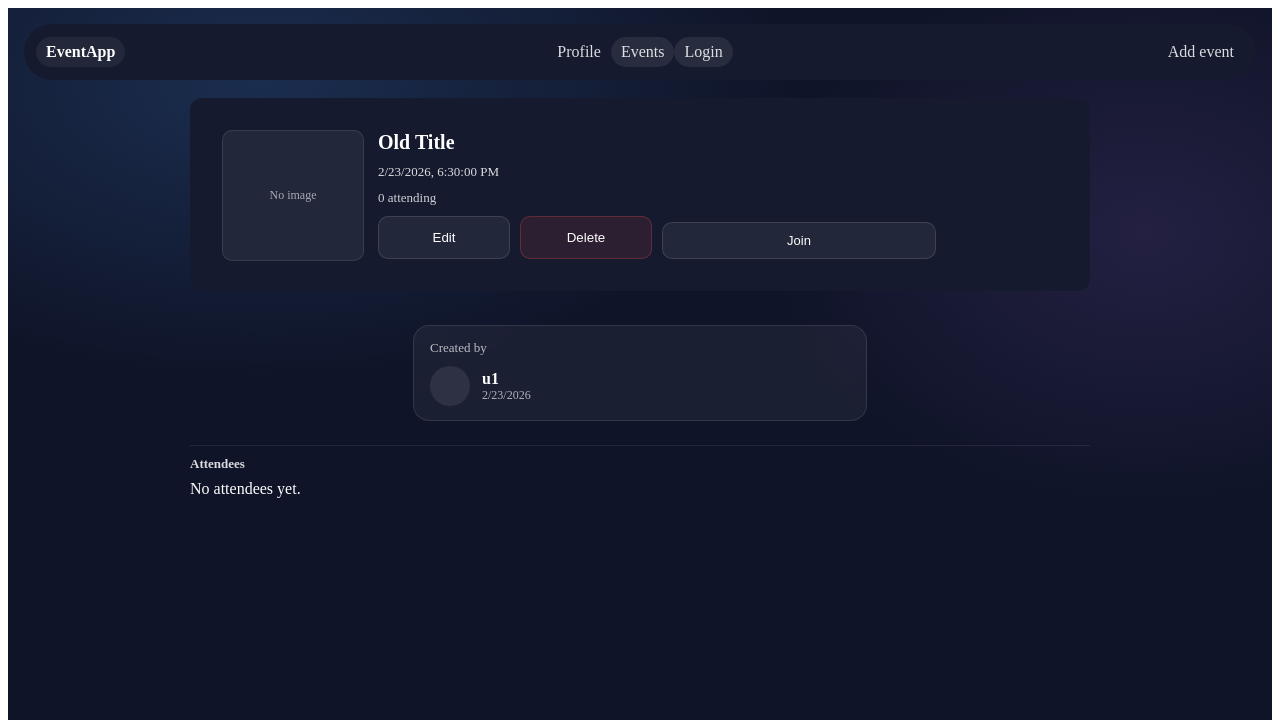
Test: EventPage › save edit: PUTs payload (no time when cleared) and then shows updated title
The width and height of the screenshot is (1280, 720).
Expected: the heading "Old Title" is shown, 378,131 -> 454,153
Click the button "Edit" at point(444, 238), box 378,216 -> 510,259
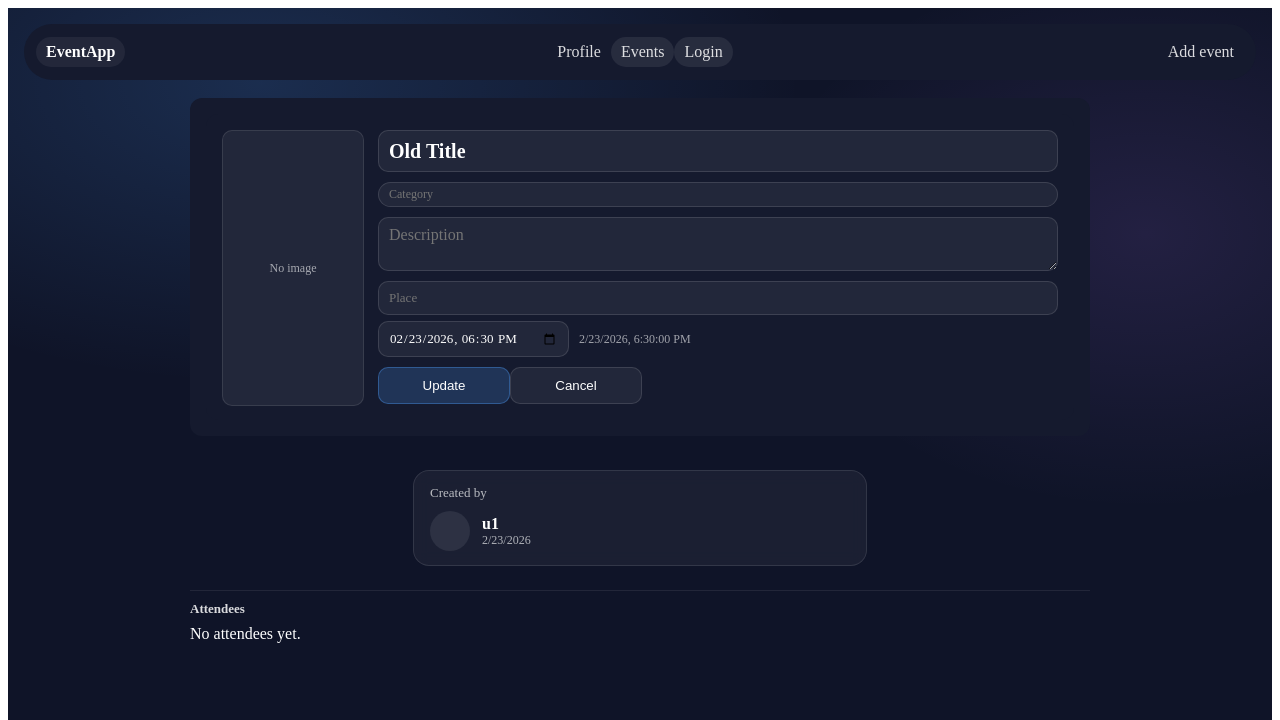
Replace the text in the 1st field showing "Old Title" with "New Title" at point(718, 151), box 378,130 -> 1058,172
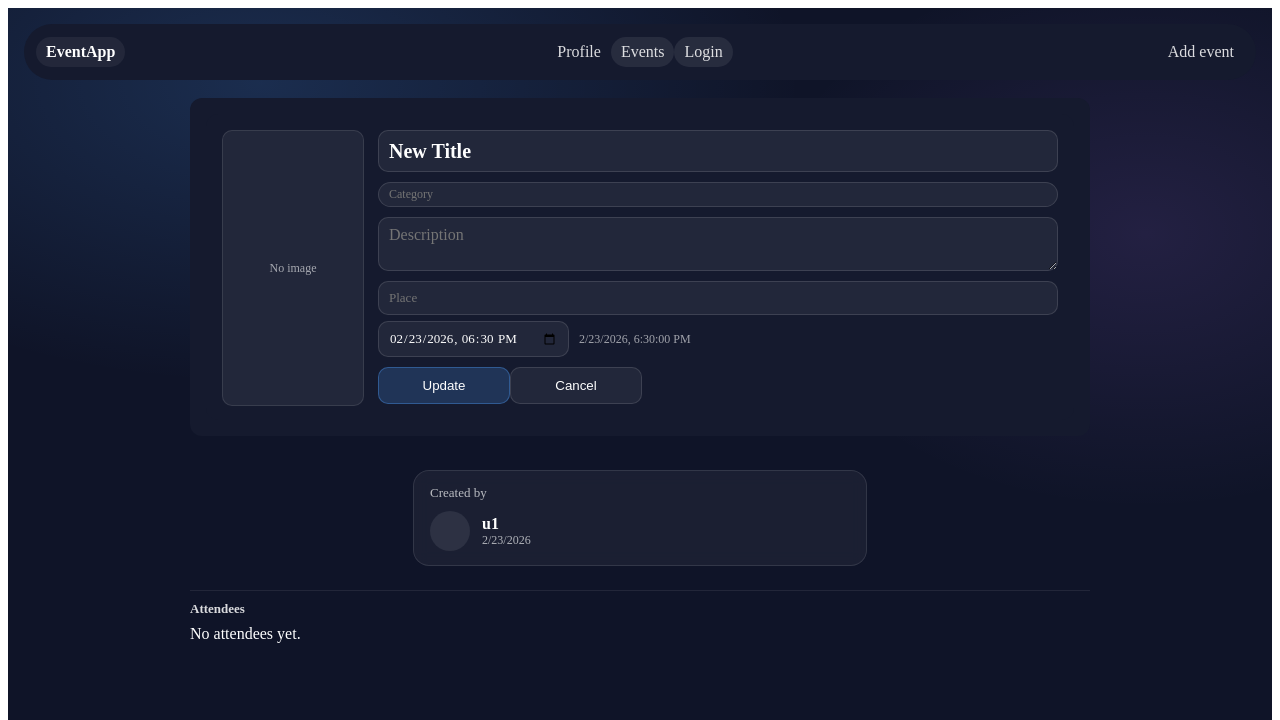
Result: the field next to "2/23/2026, 6:30:00 PM" is shown
Clear the field next to "2/23/2026, 6:30:00 PM" at point(474, 339), box 378,321 -> 569,357
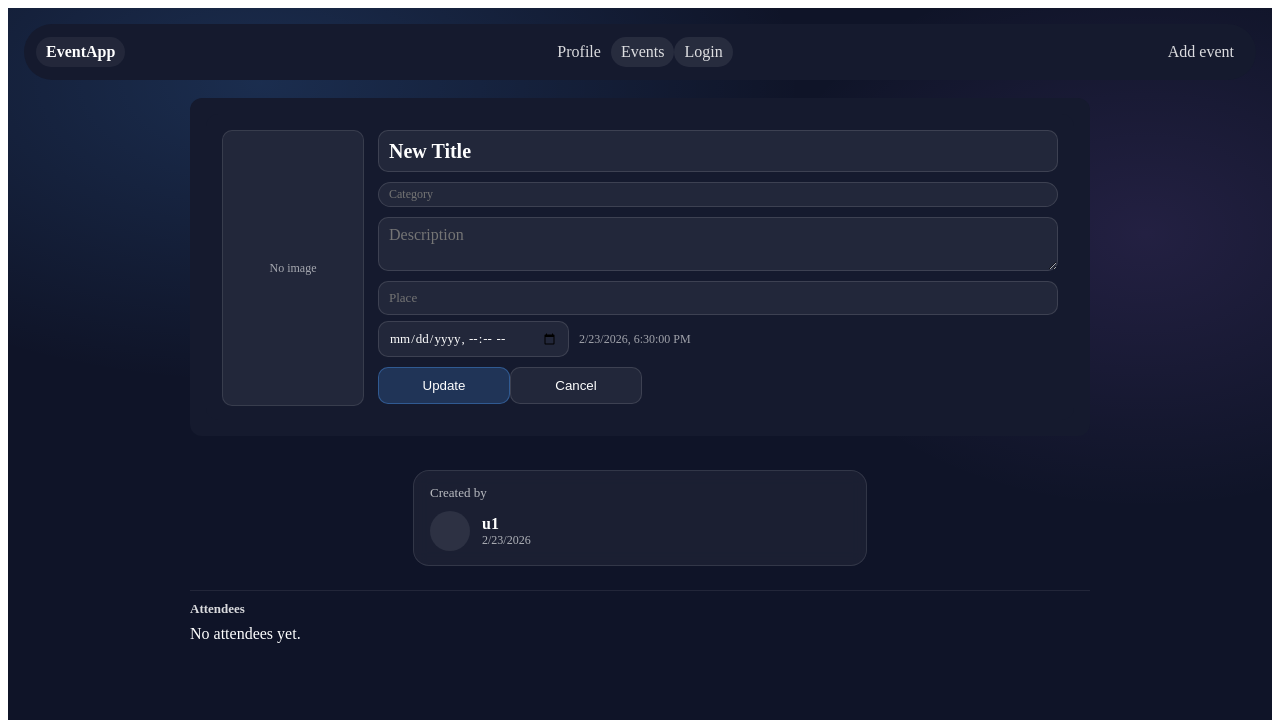
Click the button "Update" at point(444, 386), box 378,367 -> 510,404
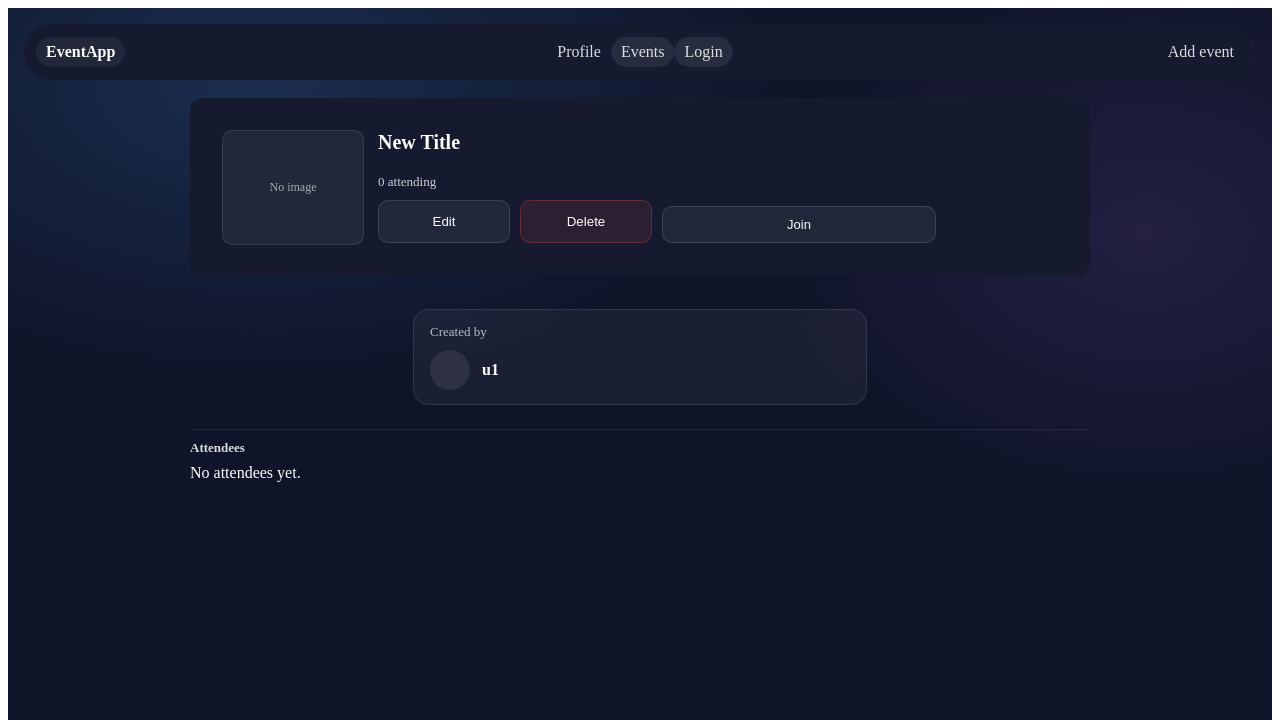
Result: the heading "New Title" is shown at 378,131 -> 460,153
